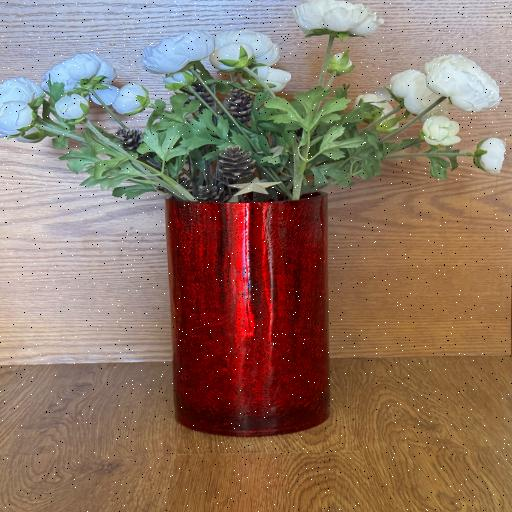Plant Pot: (167, 168, 337, 437)
